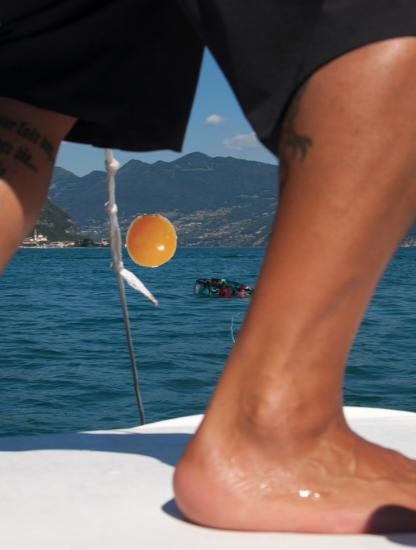Physalis: (125, 215, 178, 268)
